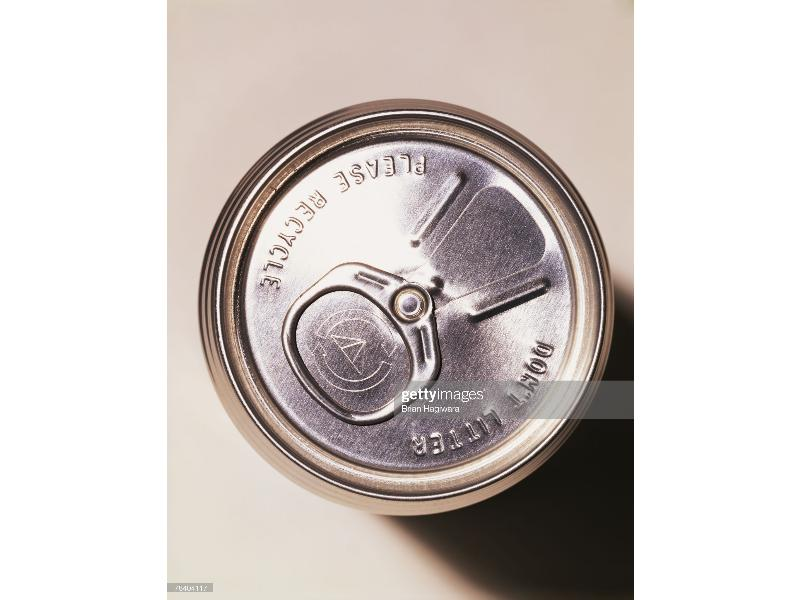can: (198, 99, 616, 520)
